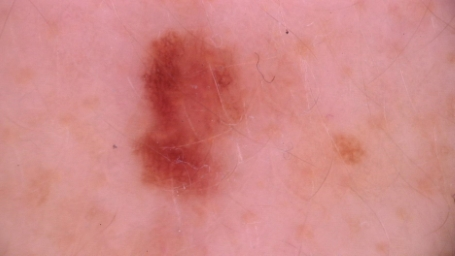nevus: (138, 31, 239, 195)
